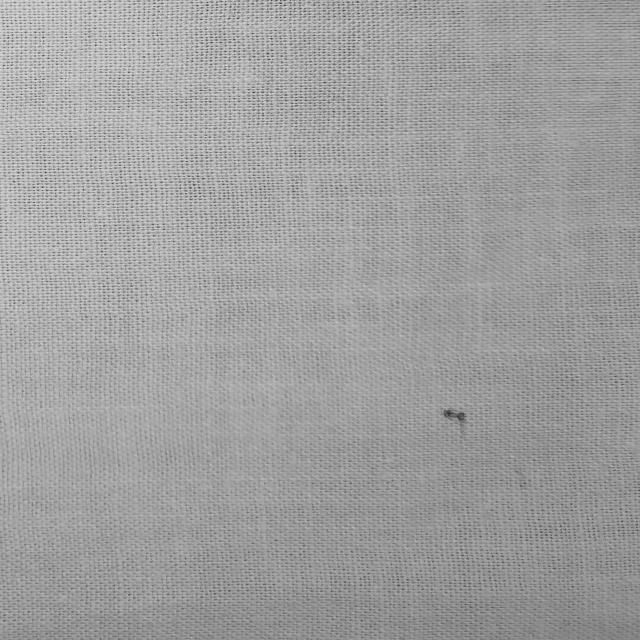Stain: (443, 409, 468, 440)
